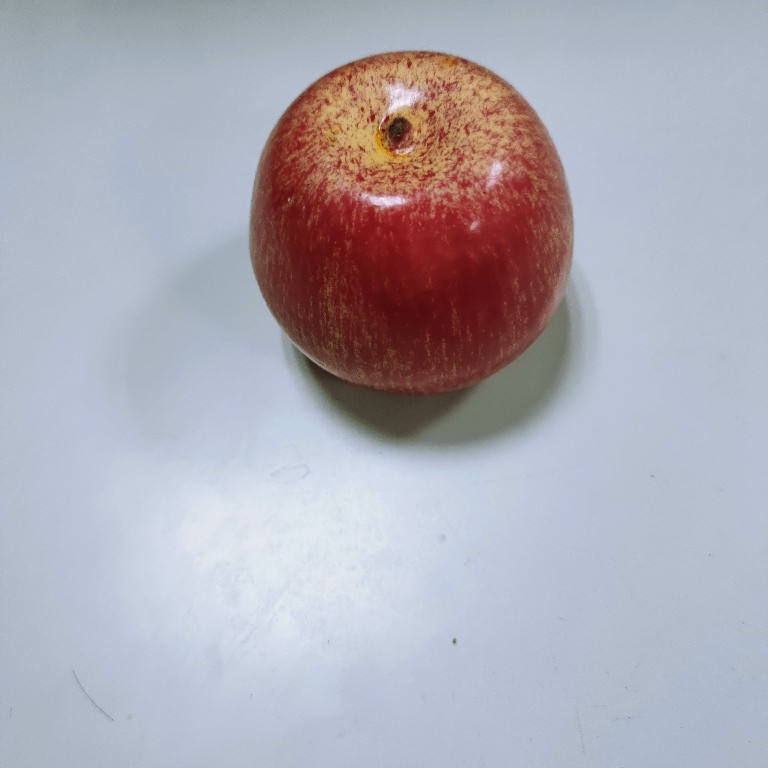fruit_apple: (246, 45, 579, 398)
